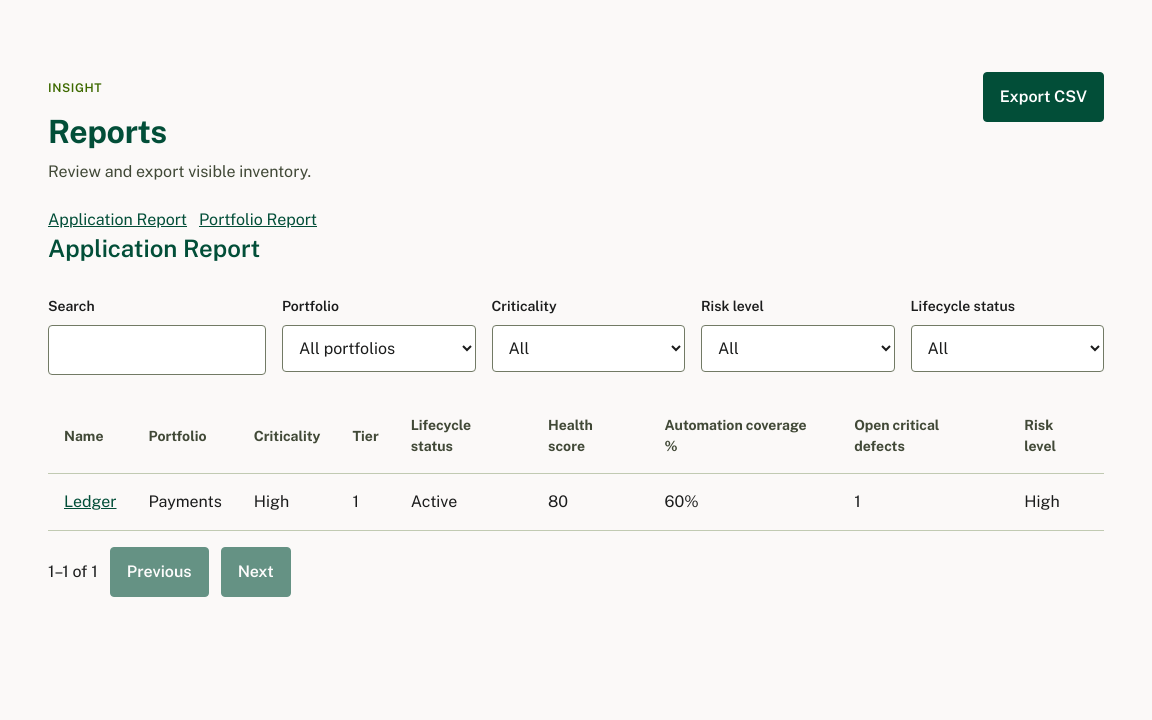
it: reports › shows both report tables and navigates with URL filters
Select "High" in the dropdown labelled "Risk level" at point(798, 348), box [701,325,894,372]
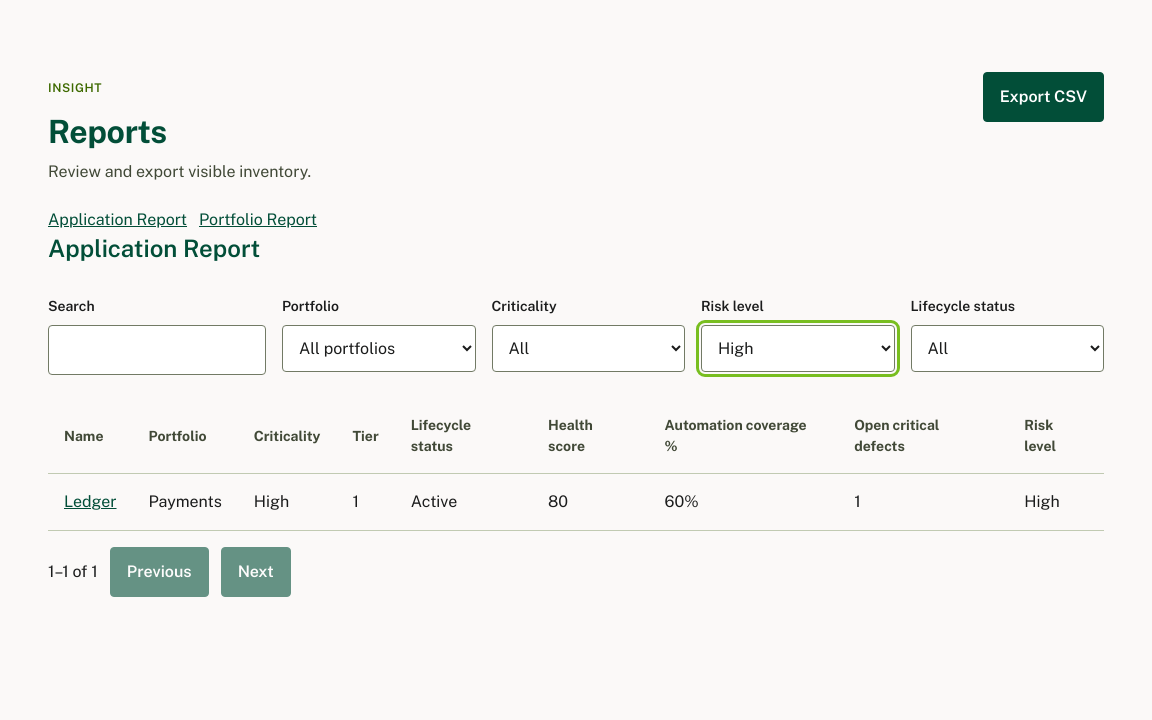
Click the link "Portfolio Report" at point(258, 220), box [199,208,317,232]
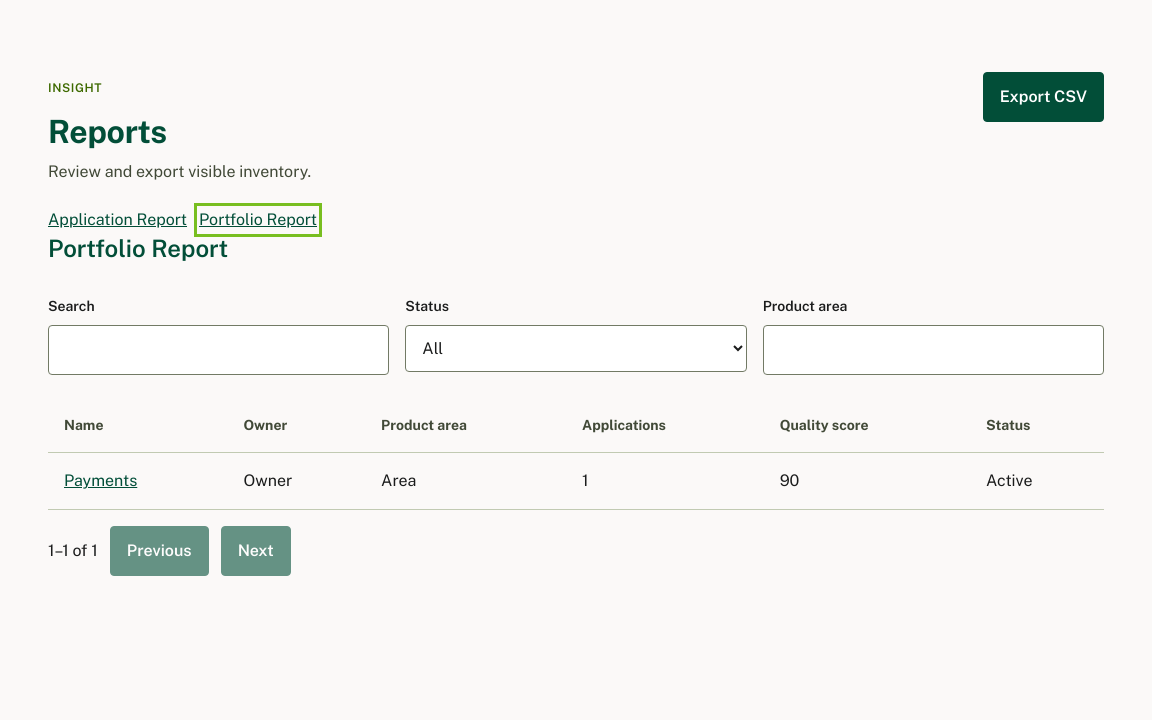
Result: the text "90" is shown at [764,452,970,510]
